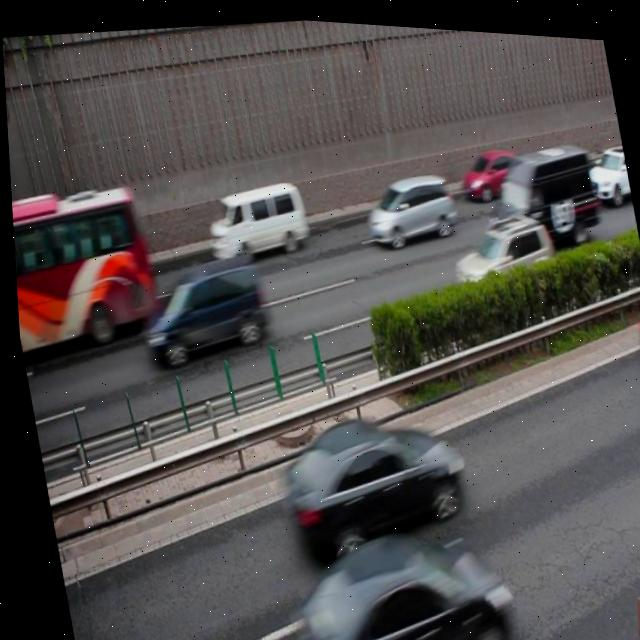car: (261, 395, 467, 561), (269, 501, 505, 640), (469, 129, 602, 250), (440, 198, 558, 302), (453, 136, 527, 198)
truck: (129, 248, 268, 371), (196, 170, 311, 267), (356, 162, 460, 247)
van: (8, 178, 158, 359)
